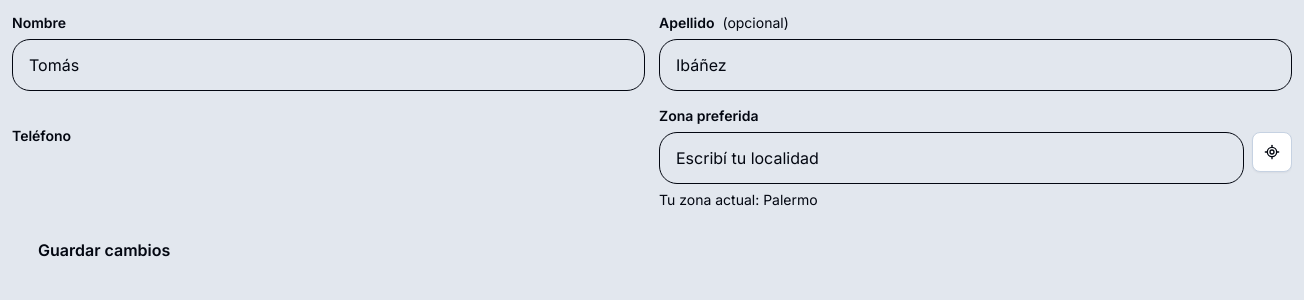
Test: ProfileForm › al fallar no pisa lo que el jugador escribió
This screenshot has width=1304, height=300.
Replace the text in the field labelled "Nombre" with "Otro". click: point(328, 65)
box: top-left (12, 39), bottom-right (645, 91)
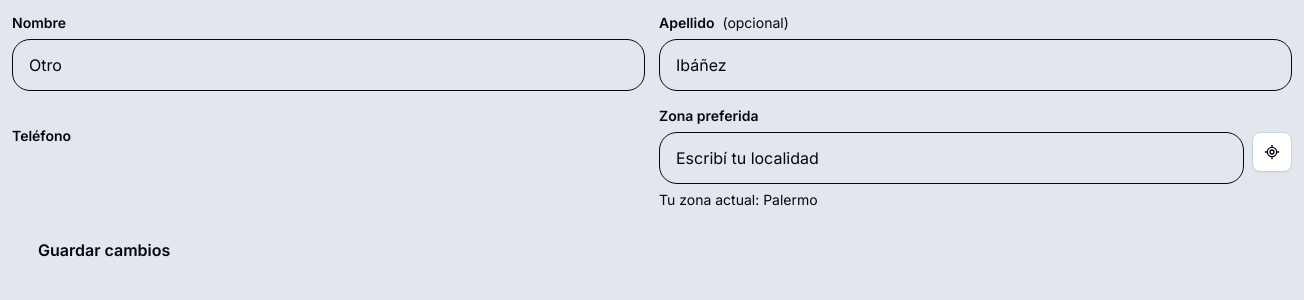
Click the button "Guardar cambios". click: point(104, 250)
box: top-left (12, 224), bottom-right (196, 276)
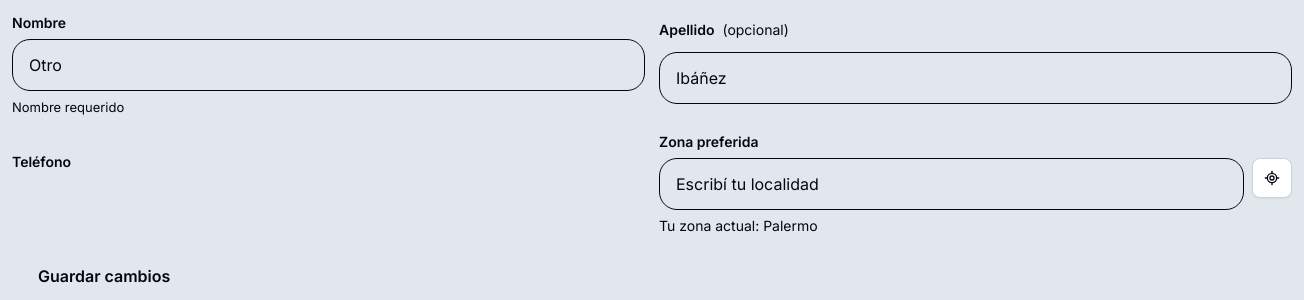
Expected: the message "Nombre requerido" is shown, top-left (12, 99), bottom-right (124, 115)
